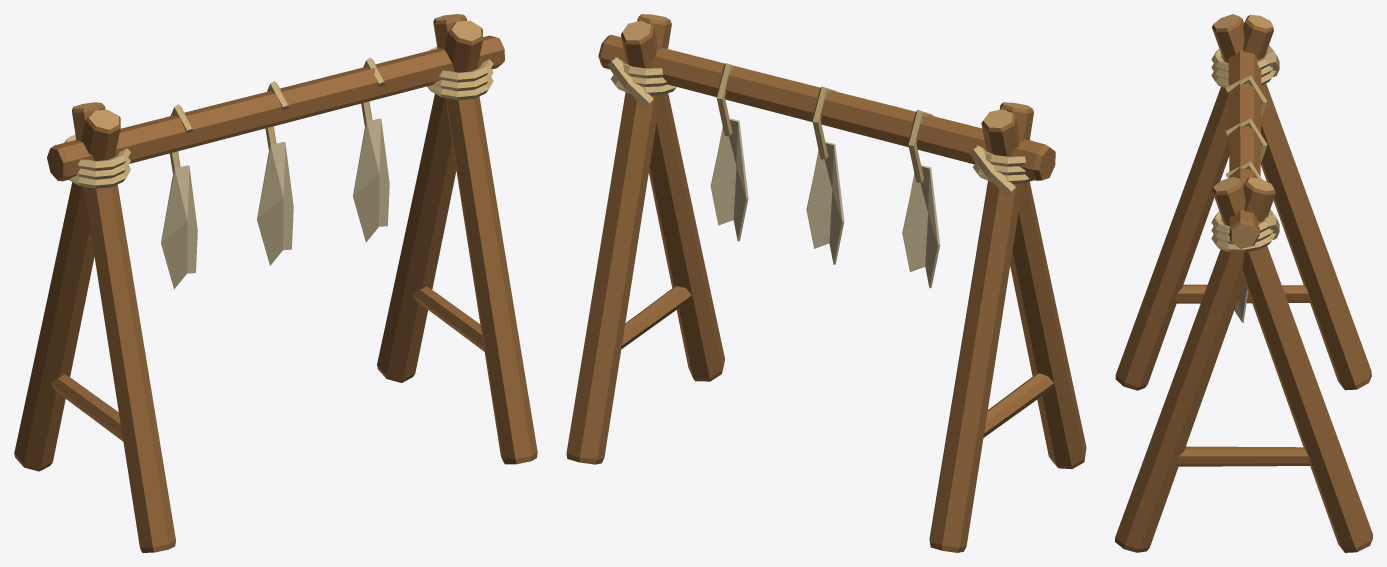
The model's file is drying_rack_basic_01.glb.
3 renders of one model, left to right at view 1: azimuth 30°, elevation 25°; view 2: azimuth 150°, elevation 25°; view 3: azimuth 270°, elevation 25°, orthographic. The views are drawn at different scales.
Visible parts, largest first — view 1: drying_rack_basic_01__trestle.002, drying_rack_basic_01__trestle, drying_rack_basic_01__crossbar, drying_rack_basic_01__trestle.001, drying_rack_basic_01__trestle.003, drying_rack_basic_01, drying_rack_basic_01__foot_brace, drying_rack_basic_01__foot_brace.001, drying_rack_basic_01__joint2; view 2: drying_rack_basic_01__trestle.003, drying_rack_basic_01__trestle.001, drying_rack_basic_01__crossbar, drying_rack_basic_01__trestle, drying_rack_basic_01__trestle.002, drying_rack_basic_01, drying_rack_basic_01__foot_brace, drying_rack_basic_01__foot_brace.001, drying_rack_basic_01__joint_cross, drying_rack_basic_01__joint_cross.001, drying_rack_basic_01__hanging_loop, drying_rack_basic_01__hanging_loop.001 (+1 smaller); view 3: drying_rack_basic_01__trestle.003, drying_rack_basic_01__trestle.002, drying_rack_basic_01__trestle.001, drying_rack_basic_01__trestle, drying_rack_basic_01__crossbar, drying_rack_basic_01__foot_brace.001, drying_rack_basic_01__foot_brace, drying_rack_basic_01__joint0.001, drying_rack_basic_01__joint2, drying_rack_basic_01__joint2.001, drying_rack_basic_01__hanging_loop, drying_rack_basic_01__hanging_loop.001.
Part boxes in pixels (left/top/right/bottom): drying_rack_basic_01__trestle.002: left=433, top=14, right=537, bottom=464; drying_rack_basic_01__trestle: left=72, top=102, right=175, bottom=552; drying_rack_basic_01__crossbar: left=47, top=35, right=504, bottom=181; drying_rack_basic_01__trestle.001: left=14, top=109, right=120, bottom=471; drying_rack_basic_01__trestle.003: left=377, top=20, right=482, bottom=382; drying_rack_basic_01: left=161, top=118, right=389, bottom=289; drying_rack_basic_01__foot_brace: left=50, top=374, right=123, bottom=441; drying_rack_basic_01__foot_brace.001: left=412, top=286, right=484, bottom=351; drying_rack_basic_01__joint2: left=64, top=134, right=130, bottom=170; drying_rack_basic_01__trestle.003: left=566, top=14, right=671, bottom=464; drying_rack_basic_01__trestle.001: left=929, top=102, right=1033, bottom=552; drying_rack_basic_01__crossbar: left=598, top=34, right=1055, bottom=180; drying_rack_basic_01__trestle: left=981, top=109, right=1086, bottom=469; drying_rack_basic_01__trestle.002: left=621, top=20, right=724, bottom=381; drying_rack_basic_01: left=710, top=118, right=940, bottom=288; drying_rack_basic_01__foot_brace: left=983, top=373, right=1053, bottom=437; drying_rack_basic_01__foot_brace.001: left=621, top=286, right=691, bottom=349; drying_rack_basic_01__joint_cross: left=969, top=146, right=1015, bottom=195; drying_rack_basic_01__joint_cross.001: left=607, top=57, right=653, bottom=107; drying_rack_basic_01__hanging_loop: left=908, top=110, right=933, bottom=182; drying_rack_basic_01__hanging_loop.001: left=812, top=86, right=836, bottom=159; drying_rack_basic_01__trestle.003: left=1212, top=177, right=1372, bottom=552; drying_rack_basic_01__trestle.002: left=1115, top=177, right=1275, bottom=552; drying_rack_basic_01__trestle.001: left=1212, top=14, right=1371, bottom=390; drying_rack_basic_01__trestle: left=1115, top=14, right=1273, bottom=390; drying_rack_basic_01__crossbar: left=1228, top=50, right=1261, bottom=248; drying_rack_basic_01__foot_brace.001: left=1175, top=446, right=1310, bottom=466; drying_rack_basic_01__foot_brace: left=1174, top=284, right=1310, bottom=303; drying_rack_basic_01__joint0.001: left=1211, top=233, right=1275, bottom=252; drying_rack_basic_01__joint2: left=1211, top=45, right=1275, bottom=72; drying_rack_basic_01__joint2.001: left=1211, top=209, right=1275, bottom=235; drying_rack_basic_01__hanging_loop: left=1225, top=74, right=1267, bottom=119; drying_rack_basic_01__hanging_loop.001: left=1225, top=117, right=1267, bottom=163.
Bounding box in the file's own units: 1.66 × 1.44 × 0.9102.
